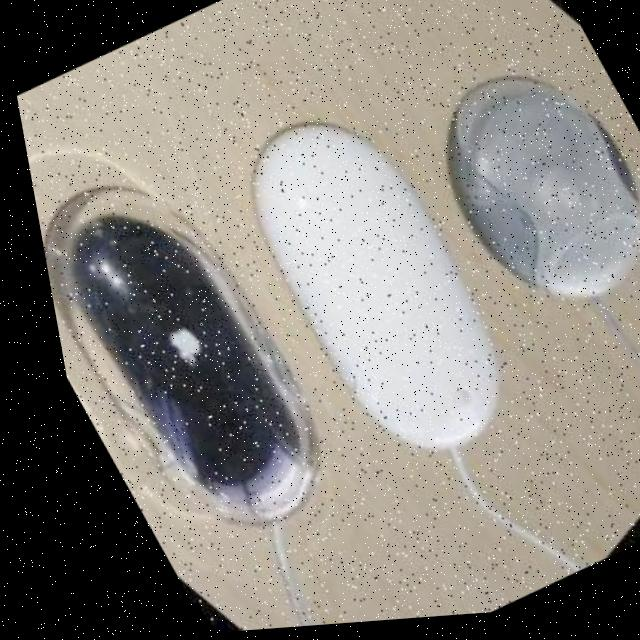mause: (72, 33, 640, 581), (10, 50, 448, 616), (345, 11, 640, 442)
